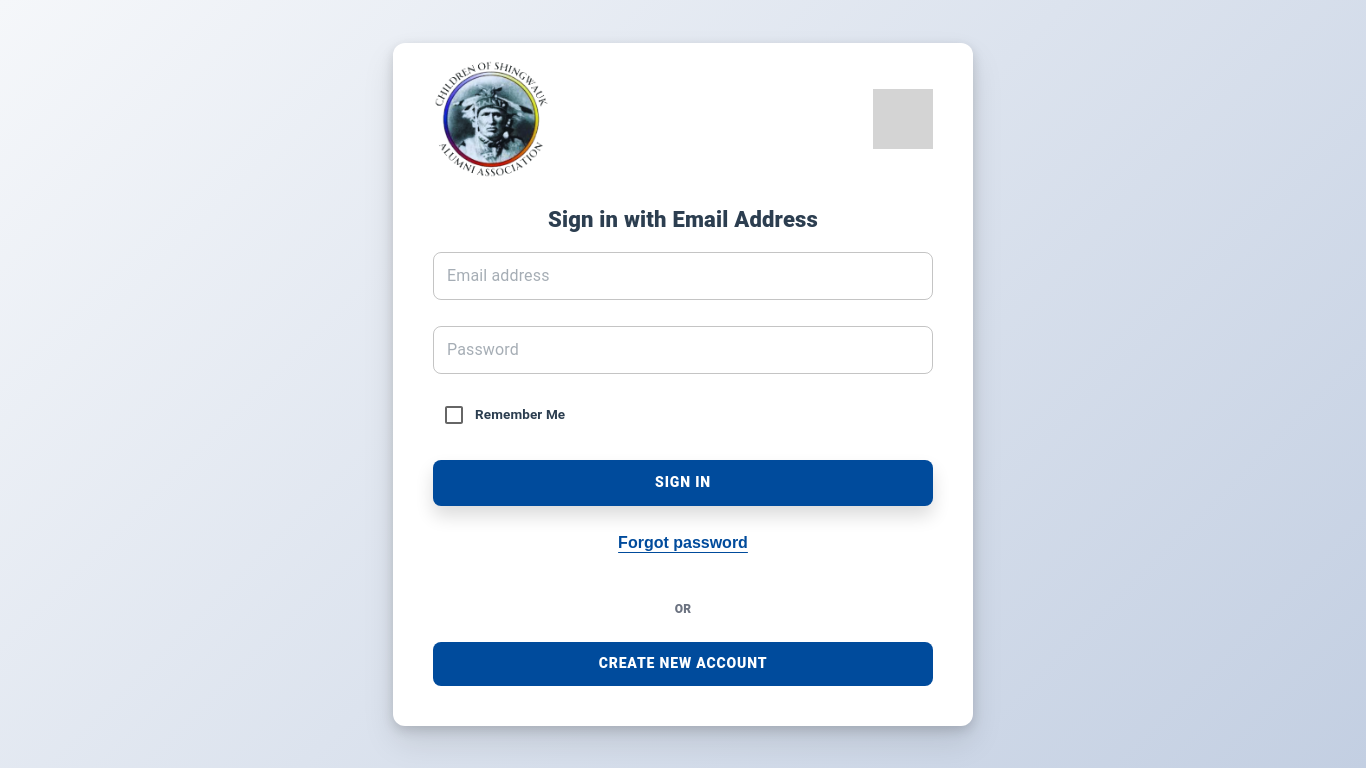
Test: Auth integration › Login: forgot password opens reset modal
Step 1. Click the button "Forgot password" → [683, 543], box x1=618 y1=526 x2=748 y2=560
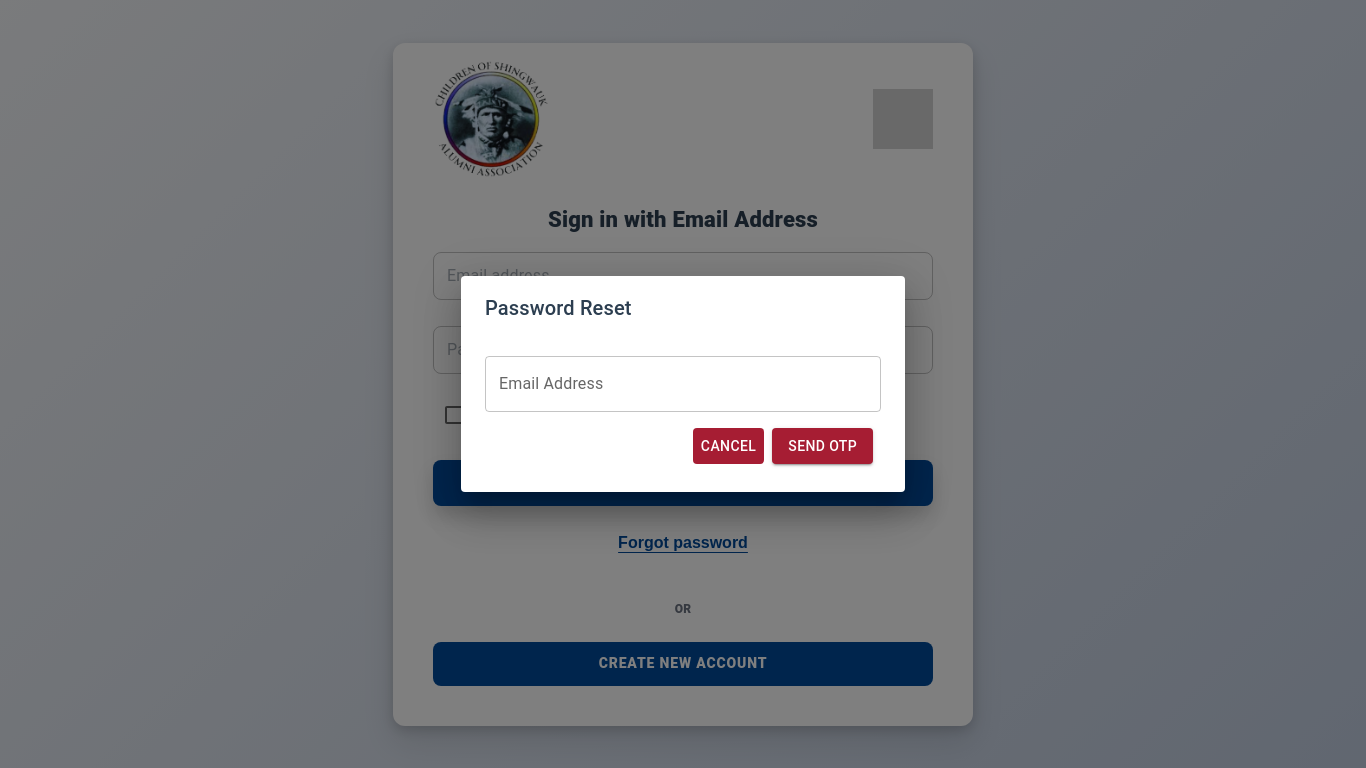
Expected: the element with test id "reset-modal" is shown
